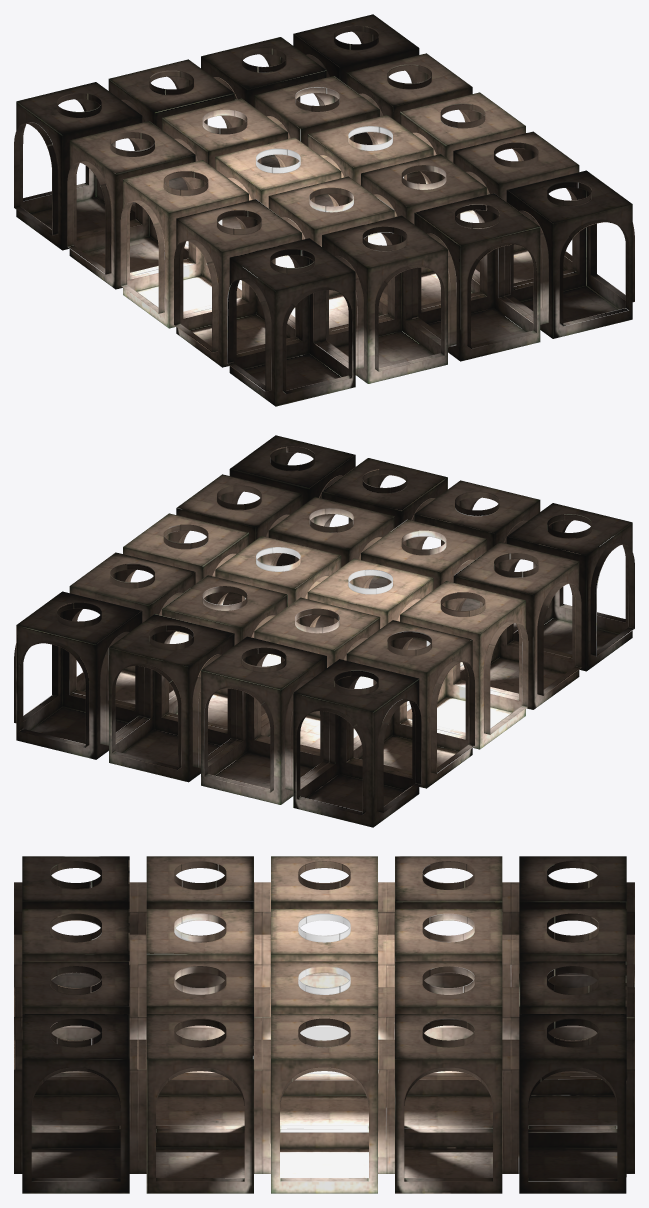
3 renders of one model, top to bottom at view 1: azimuth 30°, elevation 25°; view 2: azimuth 150°, elevation 25°; view 3: azimuth 270°, elevation 25°, orthographic. The views are drawn at different scales.
Visible parts, largest first — view 1: Cube_0; view 2: Cube_0; view 3: Cube_0.
Boxes of the visible parts, box(x1,y1,x2,y2) form: Cube_0: box(14, 14, 634, 406); Cube_0: box(14, 435, 634, 827); Cube_0: box(14, 856, 634, 1193).
Size of the model in its own units: 30.09 by 9.45 by 37.61.
1 material, 1 textured.
